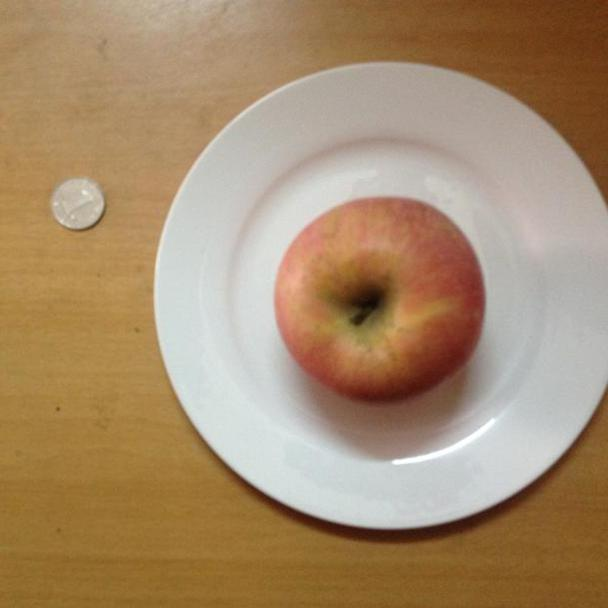apple: (272, 193, 491, 408)
